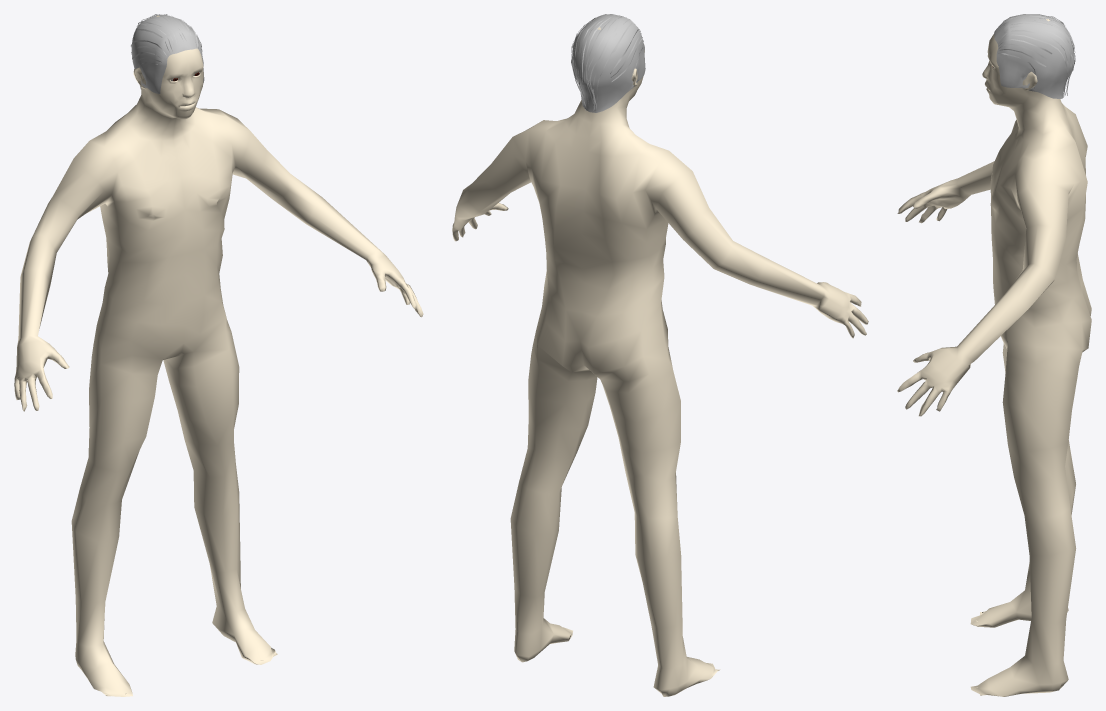
The model's file is npc10.fbx.
3 renders of one model, left to right at view 1: azimuth 30°, elevation 25°; view 2: azimuth 150°, elevation 25°; view 3: azimuth 270°, elevation 25°, orthographic.
Parts seen in each view (by area): view 1: female1605Mesh, short04Mesh; view 2: female1605Mesh, short04Mesh; view 3: female1605Mesh, short04Mesh.
Part boxes in pixels (box(x1,y1,x2,y2)): female1605Mesh: box(14, 15, 423, 696); short04Mesh: box(131, 14, 204, 93); female1605Mesh: box(452, 27, 868, 696); short04Mesh: box(571, 14, 645, 112); female1605Mesh: box(897, 19, 1091, 696); short04Mesh: box(994, 14, 1075, 98).
Size of the model in its own units: 11.06 by 16.97 by 4.68.
